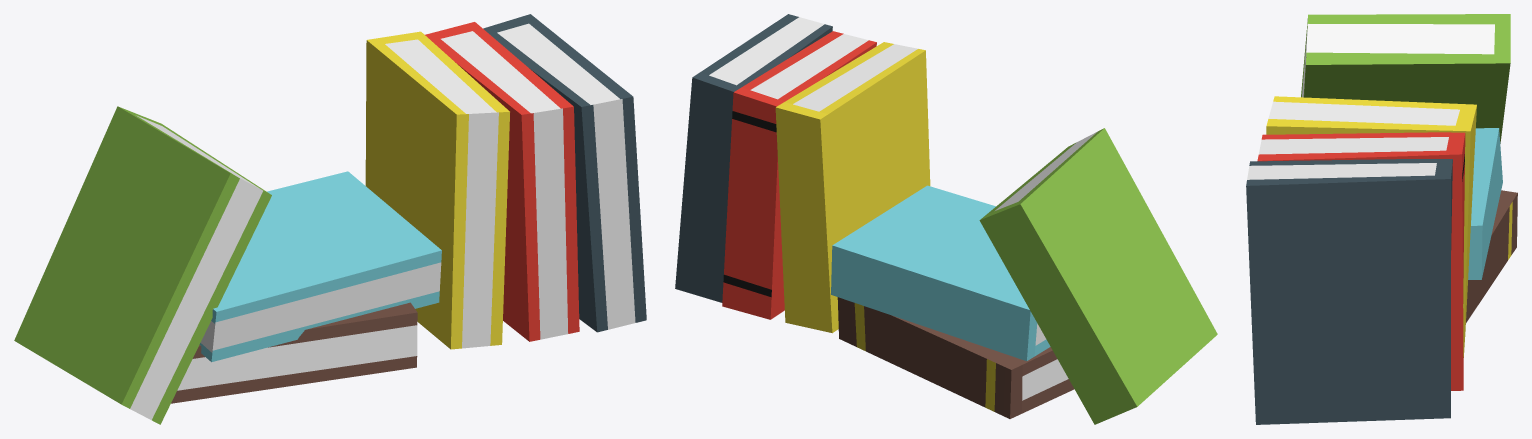
File: cactus.fbx
3 renders of one model, left to right at view 1: azimuth 30°, elevation 25°; view 2: azimuth 150°, elevation 25°; view 3: azimuth 270°, elevation 25°, orthographic. The views are drawn at different scales.
Visible parts, largest first — view 1: group_624951879, group_1274572461, group_1445929716, group_519634257, group_59889140, group_824283698; view 2: group_624951879, group_1274572461, group_1445929716, group_519634257, group_59889140, group_824283698; view 3: group_59889140, group_624951879, group_519634257, group_1274572461, group_1445929716, group_824283698.
Part boxes in pixels (x1=…): group_624951879: x1=14, y1=106, x2=271, y2=424; group_1274572461: x1=365, y1=31, x2=509, y2=349; group_1445929716: x1=199, y1=171, x2=441, y2=362; group_519634257: x1=425, y1=22, x2=579, y2=341; group_59889140: x1=483, y1=14, x2=646, y2=332; group_824283698: x1=171, y1=302, x2=417, y2=403; group_624951879: x1=979, y1=128, x2=1217, y2=424; group_1274572461: x1=775, y1=42, x2=930, y2=333; group_1445929716: x1=831, y1=185, x2=1050, y2=361; group_519634257: x1=722, y1=31, x2=876, y2=319; group_59889140: x1=675, y1=14, x2=832, y2=302; group_824283698: x1=837, y1=297, x2=1074, y2=418; group_59889140: x1=1246, y1=159, x2=1452, y2=424; group_624951879: x1=1301, y1=14, x2=1510, y2=143; group_519634257: x1=1257, y1=132, x2=1465, y2=390; group_1274572461: x1=1266, y1=96, x2=1476, y2=357; group_1445929716: x1=1468, y1=128, x2=1502, y2=279; group_824283698: x1=1466, y1=190, x2=1517, y2=322.
Size of the model in its own units: 11.41 by 5.4 by 5.24.
